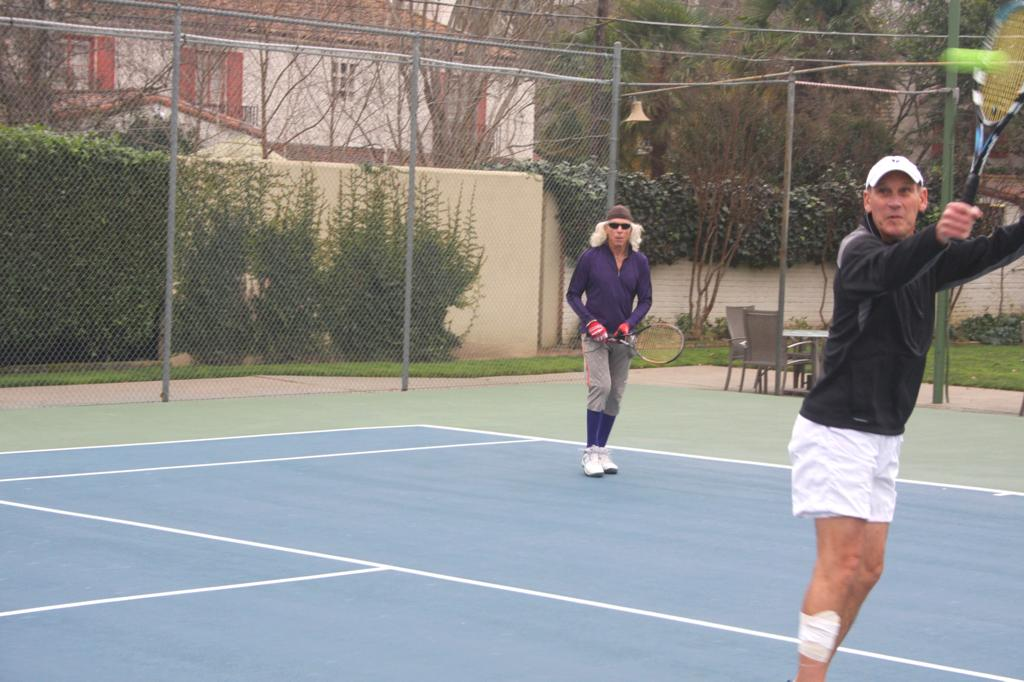face: (871, 171, 919, 236), (608, 218, 630, 247)
